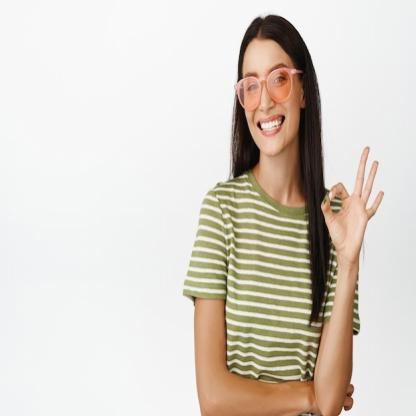ok: (319, 144, 387, 262)
